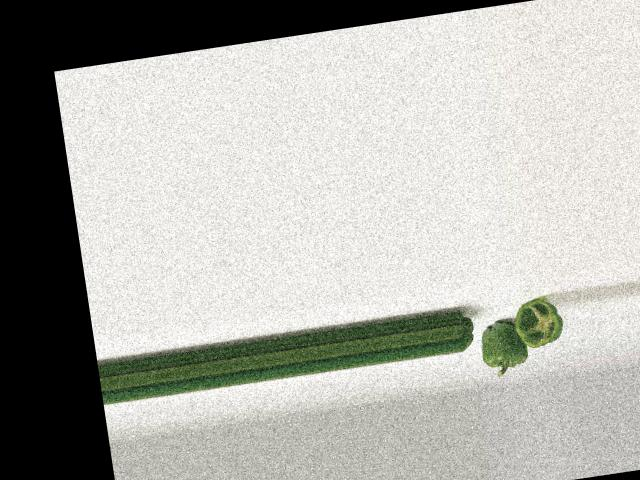bell_pepper: (508, 292, 569, 355)
